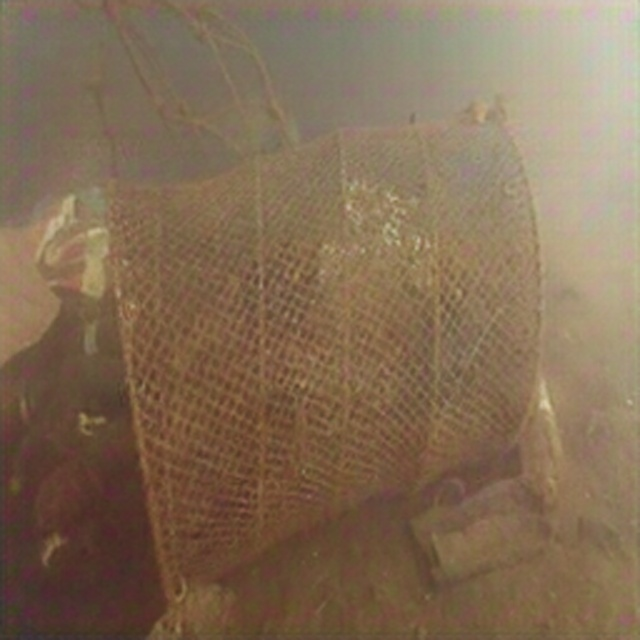mine: (107, 106, 544, 610)
